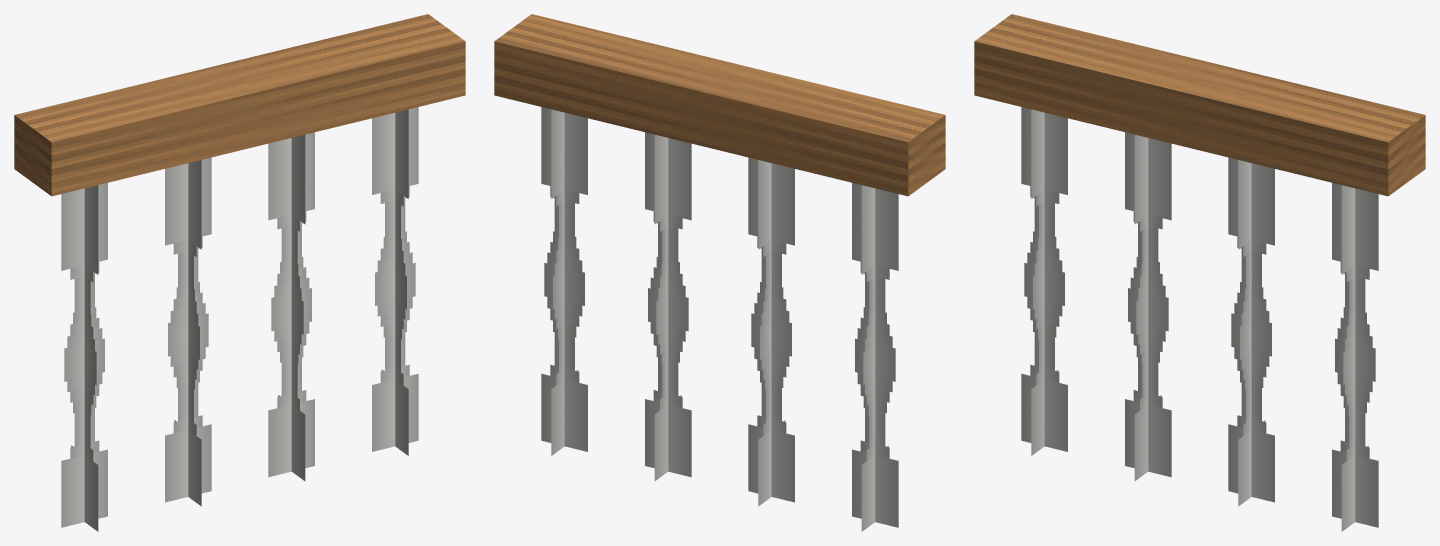
The model's file is level.obj.
3 views of the same model, side by side, from view 1: azimuth 30°, elevation 25°; view 2: azimuth 150°, elevation 25°; view 3: azimuth 330°, elevation 25° (orthographic).
Parts seen in each view (by area): view 1: railing_turned_oak_level; view 2: railing_turned_oak_level; view 3: railing_turned_oak_level.
Part boxes in pixels (x1,y1,x2,y2): railing_turned_oak_level: (14, 14, 465, 531); railing_turned_oak_level: (494, 14, 945, 531); railing_turned_oak_level: (974, 14, 1425, 531).
Bounding box in the file's own units: 1 × 0.9375 × 0.1562.
